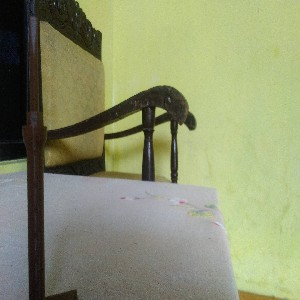obeng: (21, 15, 48, 300)
